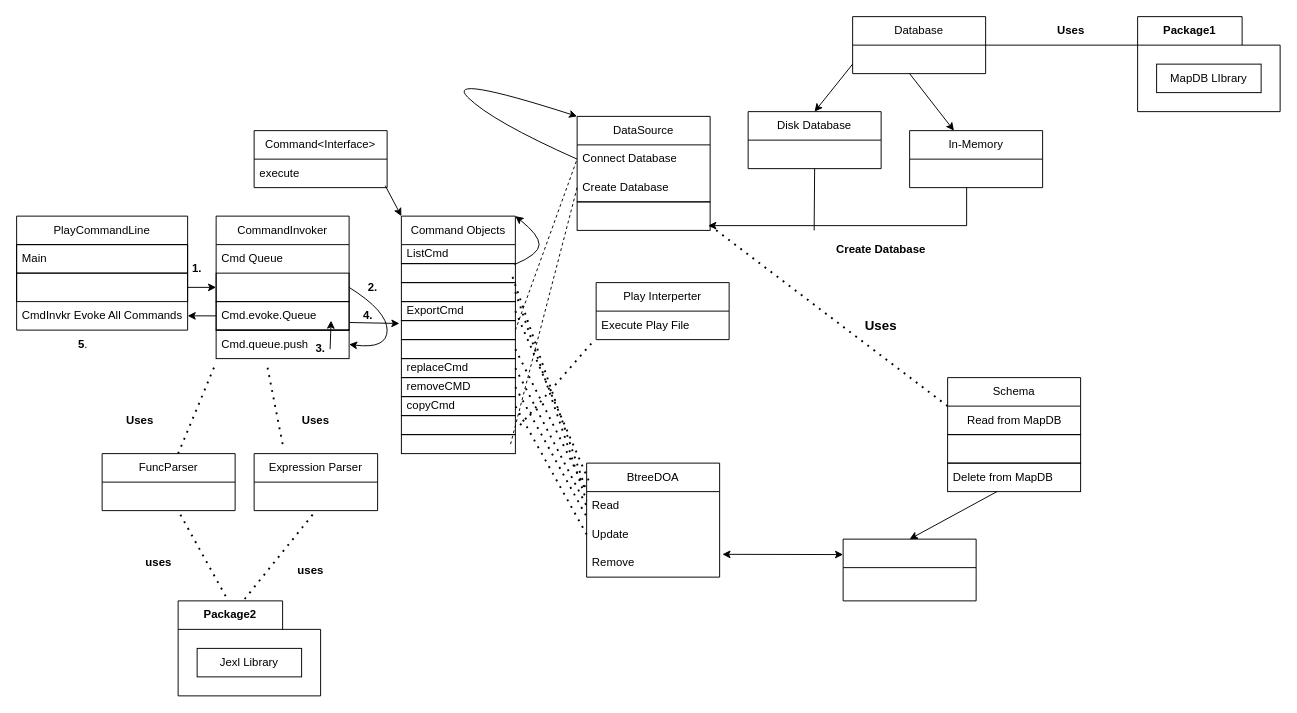
The diagram is 1297 pixels wide and 713 high, and some of its shapes have lost their labels. Each missing label, with the centre of its shape:
"BtreeSchema" goes at point 909,569.
"CmdInvkr Push" goes at point 102,287.
"ConnectCmd" goes at point 457,330.
"CreateCmd" goes at point 457,444.
"Get Database" goes at point 643,215.
"ImportCmd" goes at point 457,292.
"Lexer/Parser" goes at point 282,287.
"OutputCmd" goes at point 457,273.
"PlayCmd" goes at point 457,425.
"readCmd" goes at point 457,349.
"Remove from MapDB" goes at point 1014,448.
